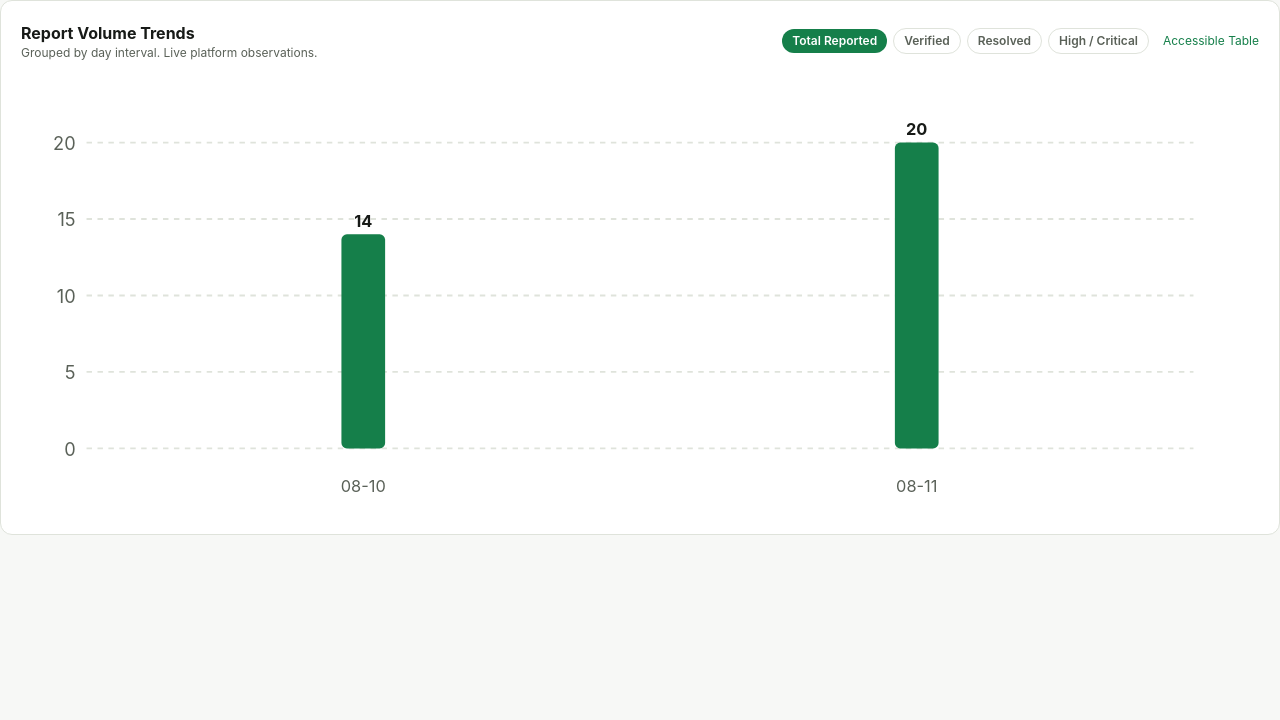
Test: Phase 12 Analytics Components › renders TrendChart and toggles accessible table view
expect the heading "Report Volume Trends" is shown: met, box [21,23,195,43]
Note: Toggle table
Click the button "Accessible Table". click: (1211, 41)
box: [1163,33,1259,49]
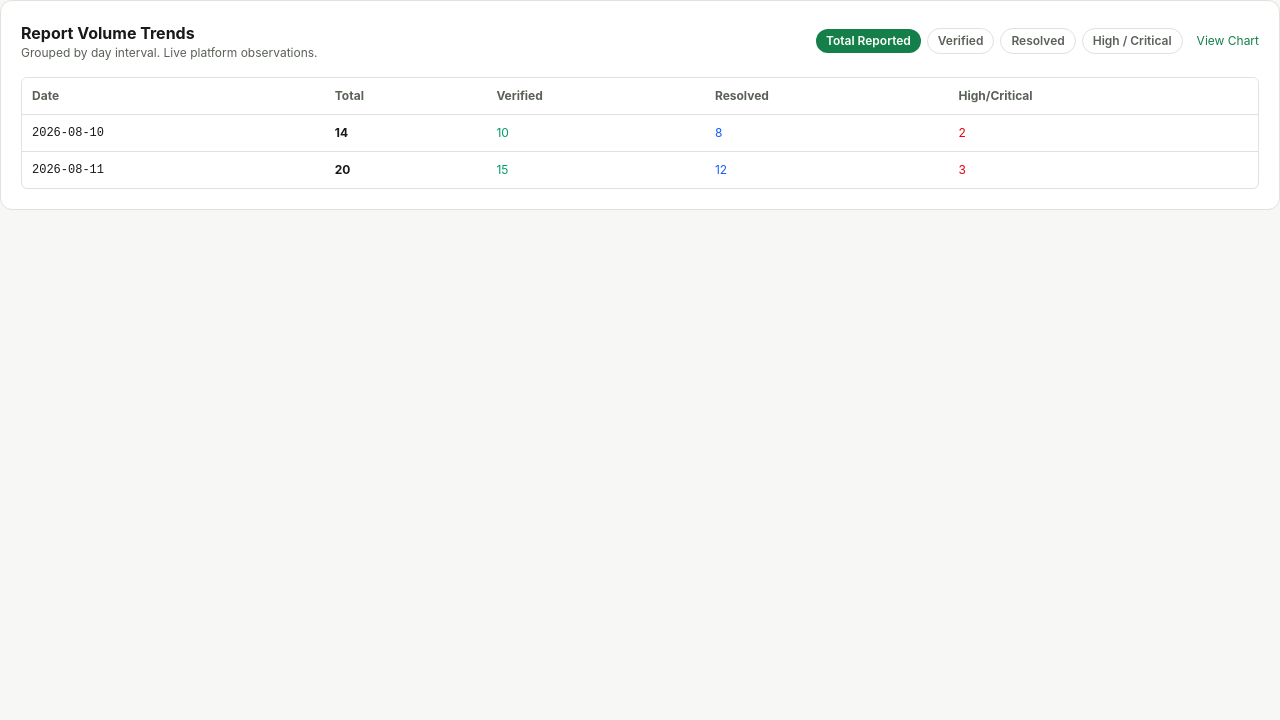
expect the text "2026-08-10" is shown: met, box [22,114,325,152]
expect the text "2026-08-11" is shown: met, box [22,152,325,188]
